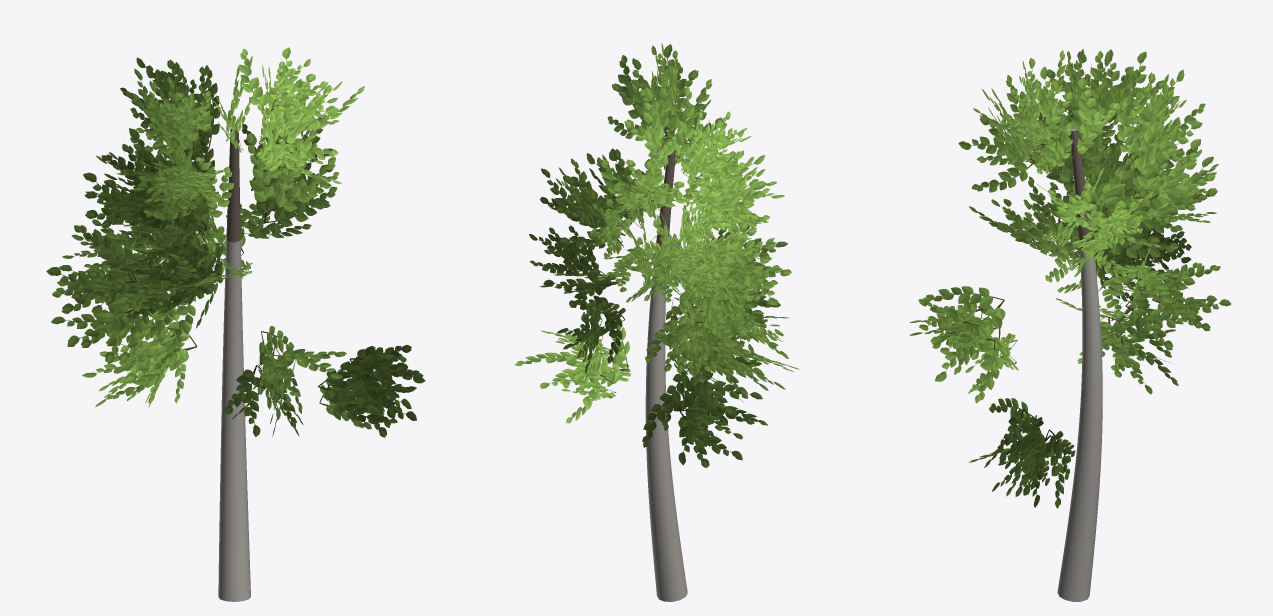
Rendered from birch_2_mid.glb.
3 views of the same model, side by side, from view 1: azimuth 30°, elevation 25°; view 2: azimuth 150°, elevation 25°; view 3: azimuth 270°, elevation 25° (orthographic). The views are drawn at different scales.
Visible parts, largest first — view 1: birch_2_mid; view 2: birch_2_mid; view 3: birch_2_mid.
Boxes of the visible parts, x1,y1,x2,y2 form: birch_2_mid: (46,47,425,601); birch_2_mid: (515,43,799,601); birch_2_mid: (909,49,1231,601).
Size of the model in its own units: 7.35 by 10.69 by 6.49.
Materials: 3 (1 with a texture image).
